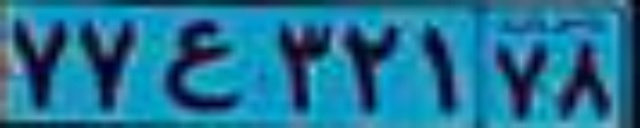1: (417, 21, 458, 112)
2: (339, 21, 401, 113)
3: (277, 19, 330, 111)
7: (9, 20, 73, 108), (78, 16, 137, 111), (488, 37, 549, 119)
8: (553, 39, 613, 121)
ain: (161, 18, 241, 110)
